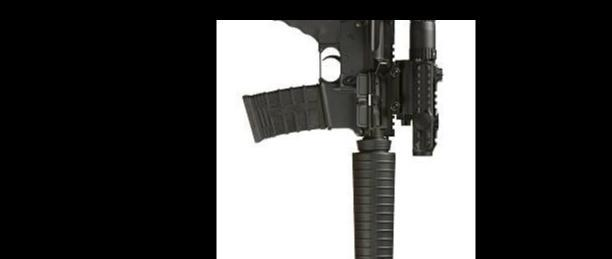larga: (241, 19, 443, 259)
